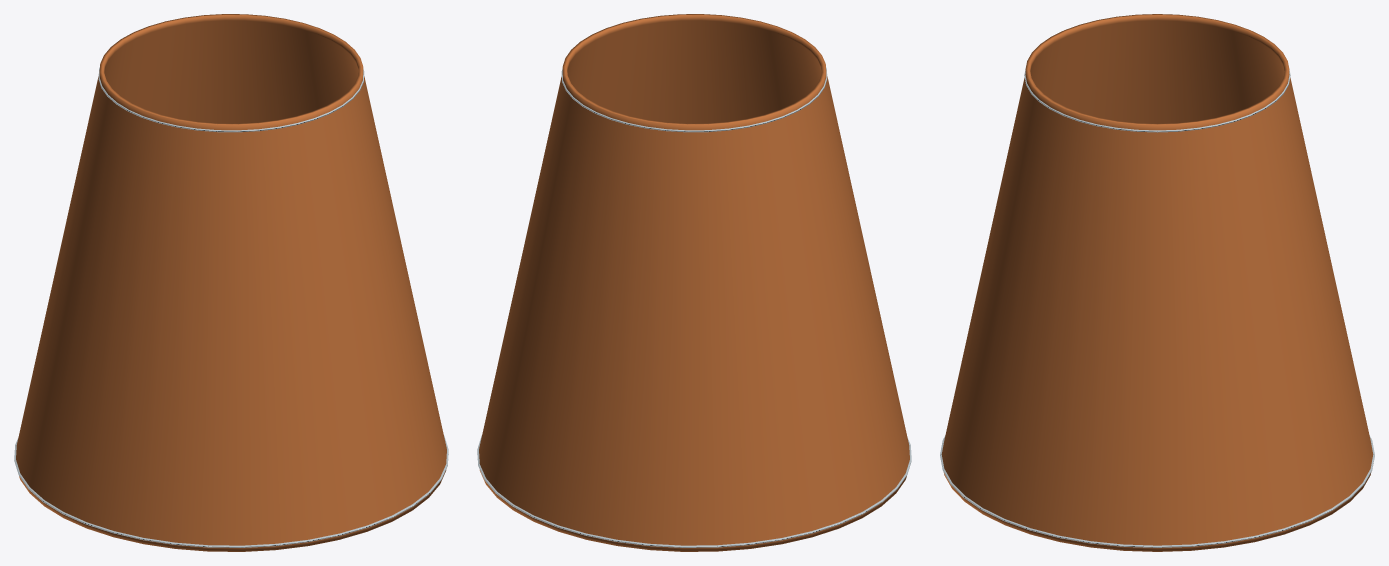
Rendered from lvsa.glb.
The picture shows the model from 3 angles, left to right: view 1: azimuth 30°, elevation 25°; view 2: azimuth 150°, elevation 25°; view 3: azimuth 270°, elevation 25°; orthographic projection.
Visible parts, largest first — view 1: lvsa.mesh_Spray-on_insulation, lvsa.mesh_Satin_aluminum; view 2: lvsa.mesh_Spray-on_insulation, lvsa.mesh_Satin_aluminum; view 3: lvsa.mesh_Spray-on_insulation, lvsa.mesh_Satin_aluminum.
Part boxes in pixels (<box>): lvsa.mesh_Spray-on_insulation: <box>16,14,446,551</box>; lvsa.mesh_Satin_aluminum: <box>14,67,448,547</box>; lvsa.mesh_Spray-on_insulation: <box>479,14,909,551</box>; lvsa.mesh_Satin_aluminum: <box>477,67,911,547</box>; lvsa.mesh_Spray-on_insulation: <box>941,14,1373,551</box>; lvsa.mesh_Satin_aluminum: <box>940,67,1374,547</box>.
Bounding box in the file's own units: 8.47 × 8.4 × 8.47.
